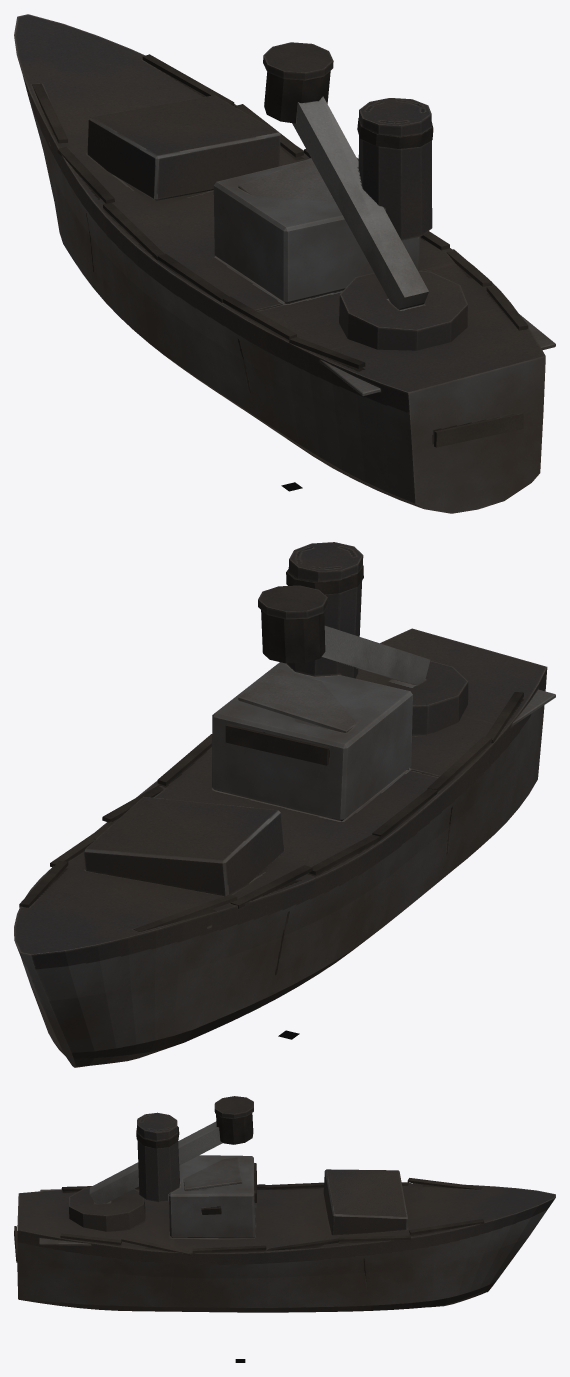
File: chs_wrecker_wreck.fbx
The picture shows the model from 3 angles, top to bottom: view 1: azimuth 30°, elevation 25°; view 2: azimuth 150°, elevation 25°; view 3: azimuth 270°, elevation 25°; orthographic projection. The views are drawn at different scales.
Parts seen in each view (by area): view 1: base_bar, nano_bar; view 2: base_bar, nano_bar; view 3: base_bar, nano_bar.
Part boxes in pixels (bbox=[...]): base_bar: bbox=[14, 14, 555, 513]; nano_bar: bbox=[263, 42, 467, 350]; base_bar: bbox=[14, 542, 555, 1067]; nano_bar: bbox=[258, 585, 468, 735]; base_bar: bbox=[14, 1112, 555, 1312]; nano_bar: bbox=[69, 1096, 253, 1231].
Size of the model in its own units: 337 by 591 by 1131.
2 materials, 2 textured.
